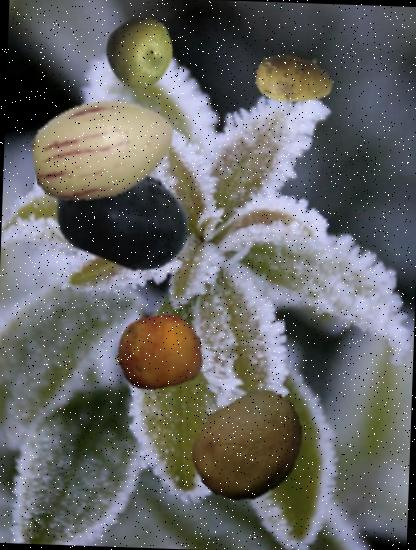Blueberry: (52, 144, 196, 288)
Papaya: (188, 384, 311, 506)
Peach: (115, 308, 204, 397)
Pepino: (31, 75, 181, 225)
Pomelo: (101, 14, 177, 90)
Potato: (254, 38, 336, 120)
